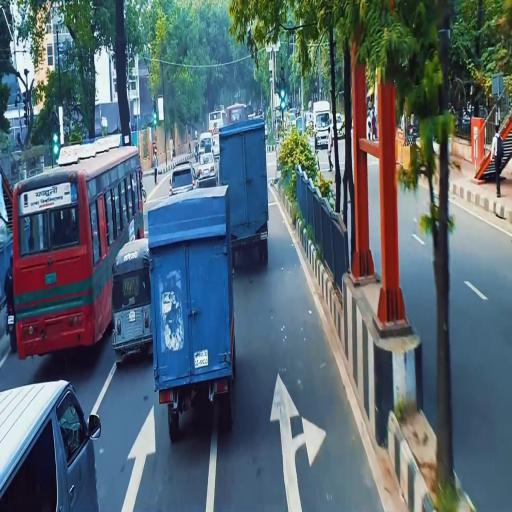bus: (9, 141, 111, 362)
car: (197, 148, 219, 186)
pickup: (148, 182, 239, 446), (217, 118, 272, 277), (312, 100, 334, 153)
three wheelers (CNG): (110, 238, 155, 362)
